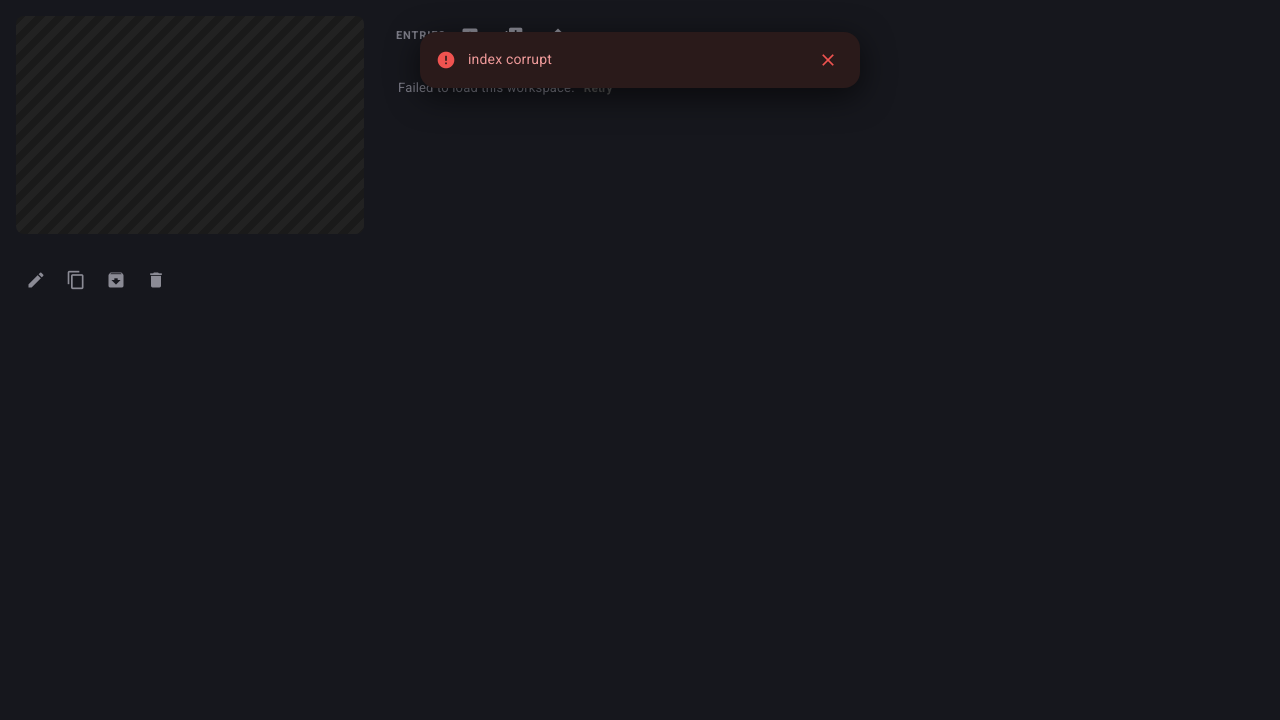
WorkspaceView › retries a failed workspace load
The image size is (1280, 720).
expect the text "index corrupt" is shown: met, box [468, 51, 552, 67]
Step 1. Click the button "Retry" → (598, 88), box [578, 68, 618, 108]
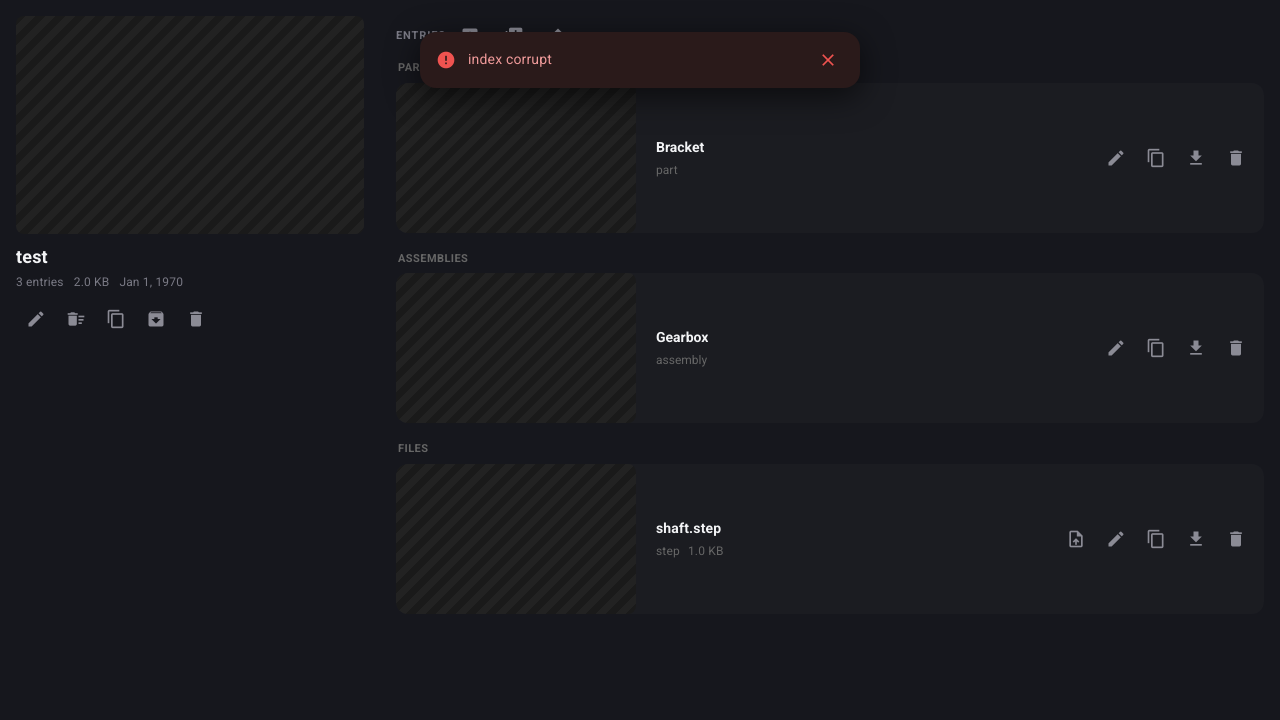
expect the text "Bracket" is shown: met, box [656, 136, 704, 158]
